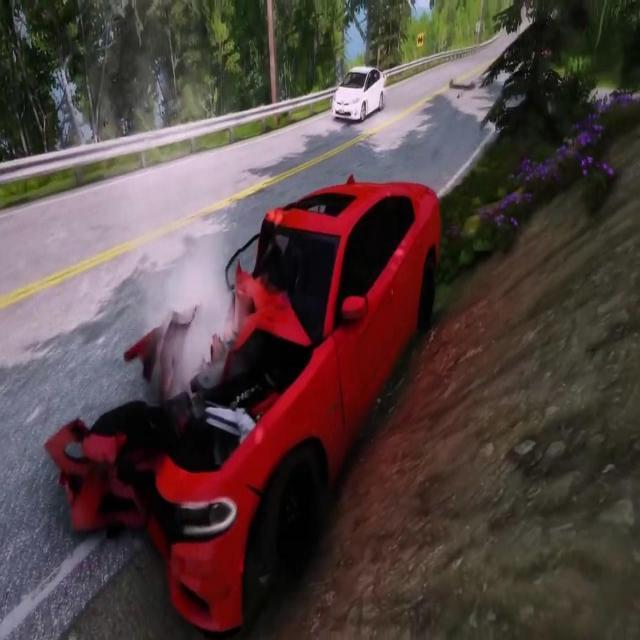severe: (40, 173, 448, 638)
